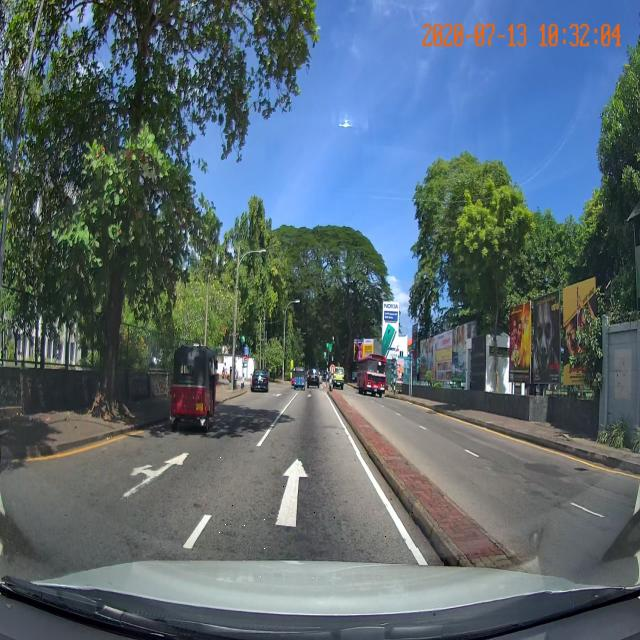forward: (184, 453, 417, 549)
